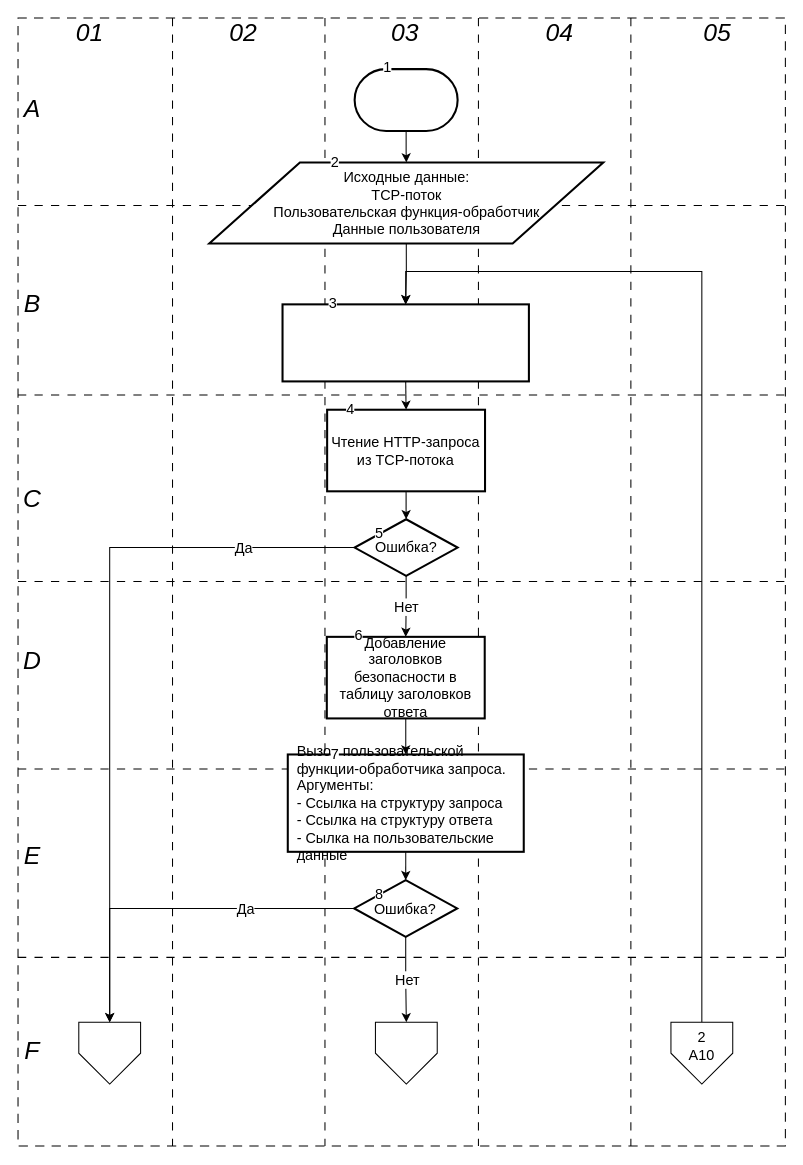
Some shapes in this 803 by 1165 pixel diagram are drawn without their labels. The shapes that lost their labels are listed below. From the top down, each one's centre as x and y in pixels, then its label:
At point 405,99: "Начало".
At point 405,342: "Инициализация Аллокатора (арены) и структур HTTP-запроса и HTTP-ответа".
At point 109,1052: "2 A06".
At point 405,1052: "2 A08".
